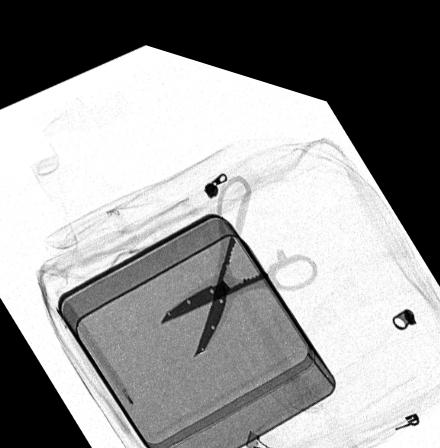Scissors: (157, 159, 319, 349)
